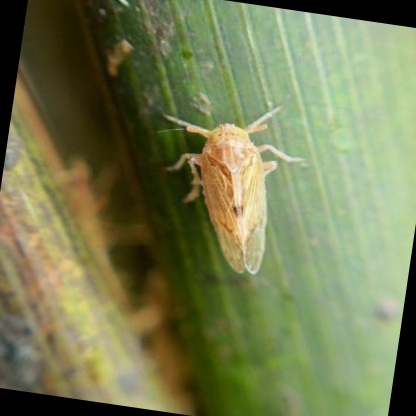Brown_hopper: (116, 70, 343, 307)
